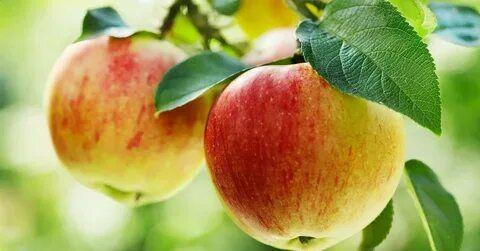Apple: (204, 65, 406, 251), (47, 32, 206, 208)
